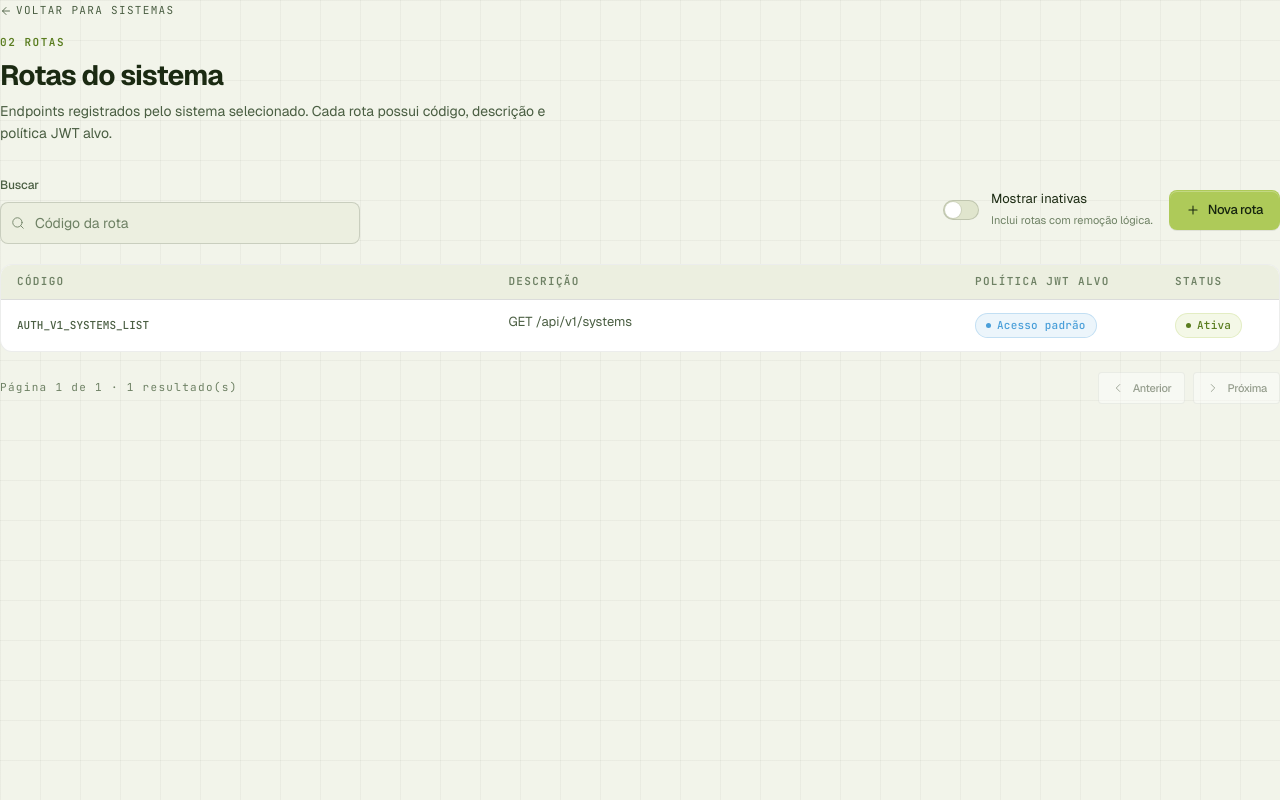
Test case: RoutesPage — criação (Issue #63) › abertura e fechamento do modal › clicar em "Nova rota" abre o diálogo com os campos do form
Click the button with test id "routes-create-open" at (1224, 210), box [1169, 190, 1279, 230]
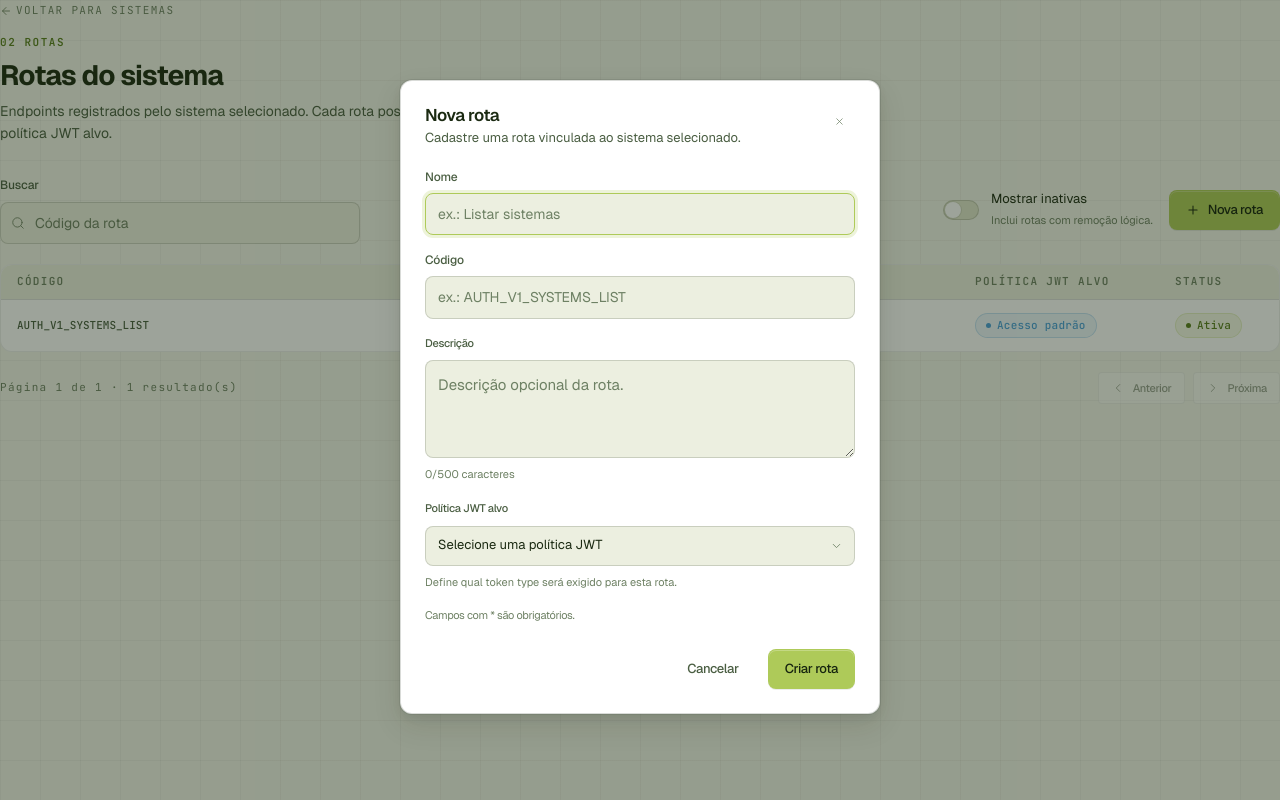
expect the form with test id "new-route-form" is shown: met, box [425, 168, 855, 689]
expect the dialog is shown: met, box [400, 80, 880, 714]
expect the field with test id "new-route-name" is shown: met, box [425, 193, 855, 235]
